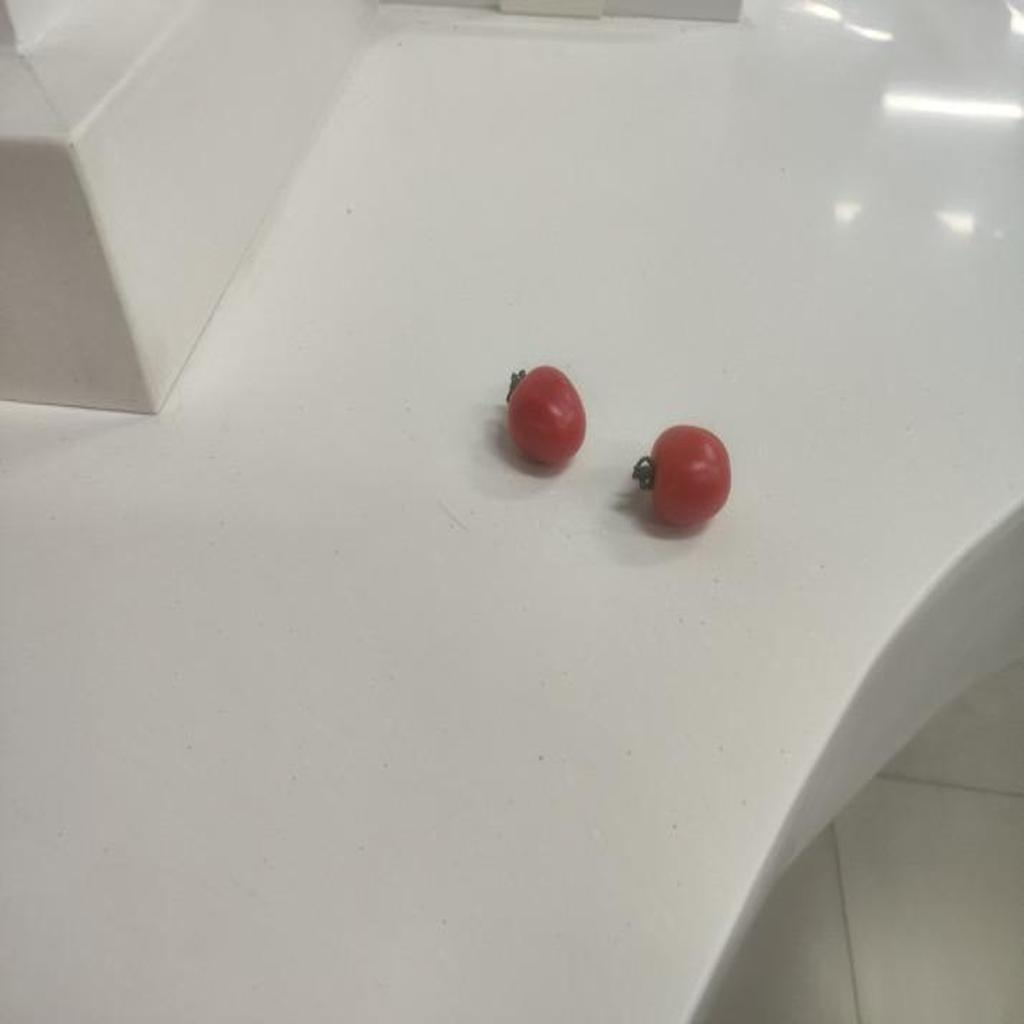tomato: (640, 426, 727, 532), (506, 369, 582, 474)
